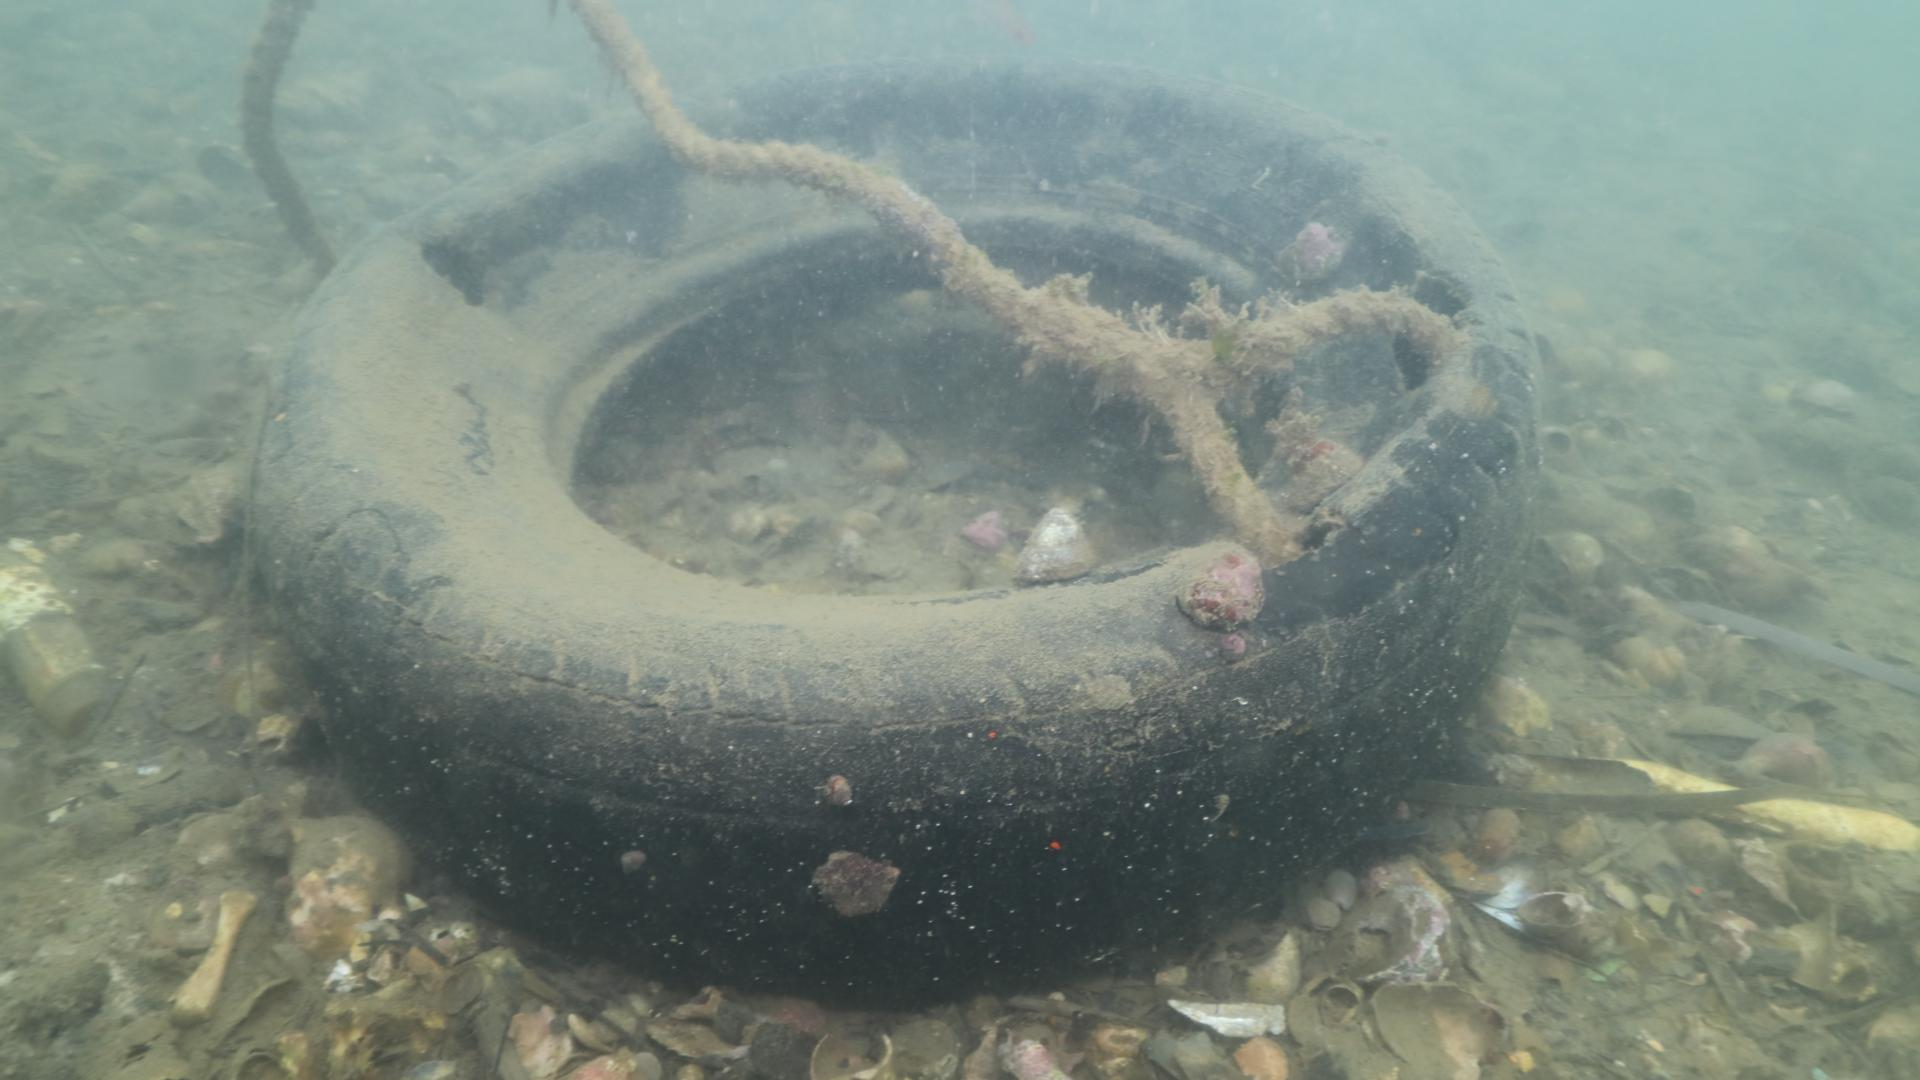rope: (237, 0, 1464, 566)
tire: (251, 51, 1542, 1010)
